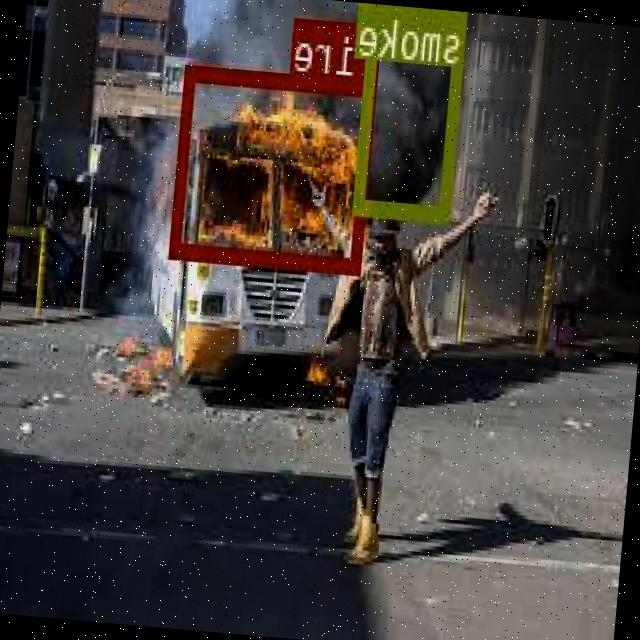fire: (172, 63, 378, 270)
smoke: (356, 3, 470, 222)
